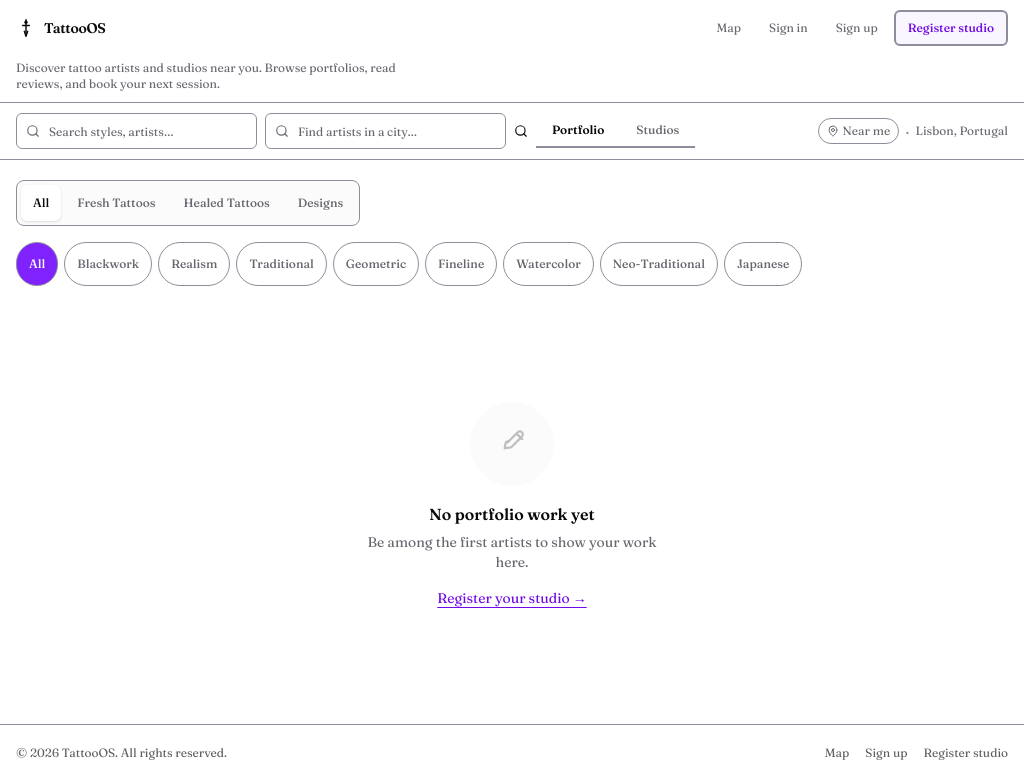
Test case: DiscoverPage › search error shows when Nominatim returns no results
The image size is (1024, 768).
Type "Nowhere Land" into the search field named "search for a city" at (386, 131), box [265,113,506,149]
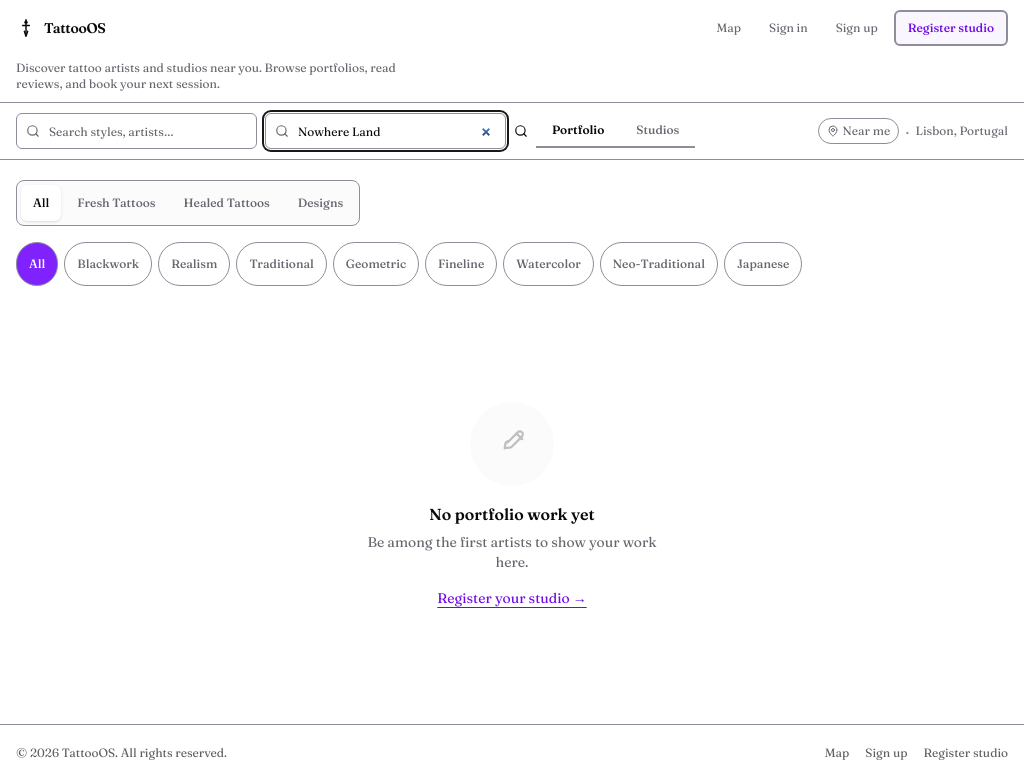
Click the button named "Search" at (521, 131), box [514,124,528,138]
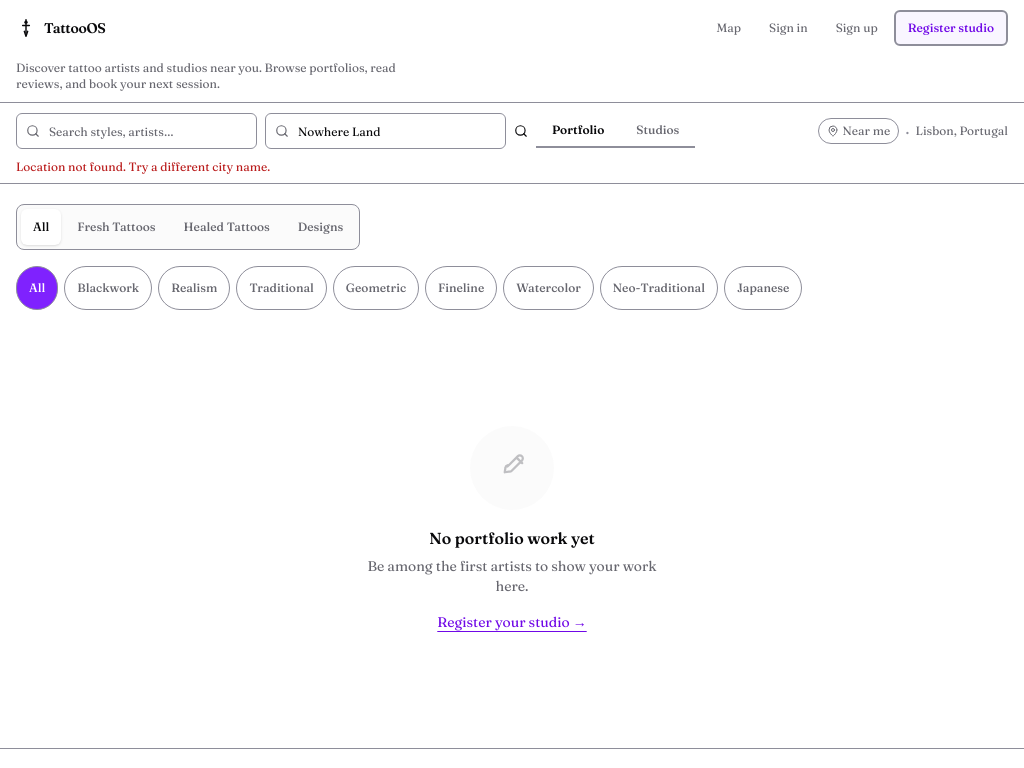
Expected: the message shows "Location not found", [16,159,270,174]
